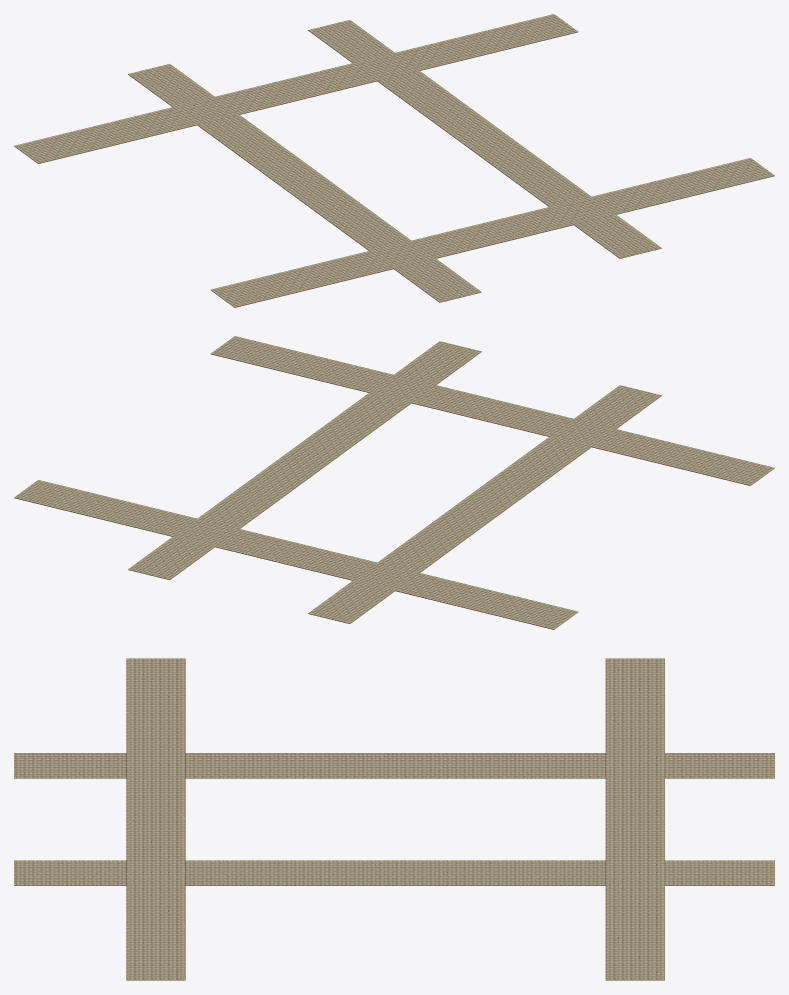
Rendered from EnvNoCollidersNormalMap.fbx.
The picture shows the model from 3 angles, top to bottom: view 1: azimuth 30°, elevation 25°; view 2: azimuth 150°, elevation 25°; view 3: azimuth 270°, elevation 25°; orthographic projection. The views are drawn at different scales.
Parts seen in each view (by area): view 1: Road; view 2: Road; view 3: Road.
Part boxes in pixels (x1=…): Road: x1=14, y1=14, x2=774, y2=307; Road: x1=14, y1=336, x2=774, y2=629; Road: x1=14, y1=658, x2=774, y2=980.
Bounding box in the file's own units: 2000 × 2.05 × 2000.
